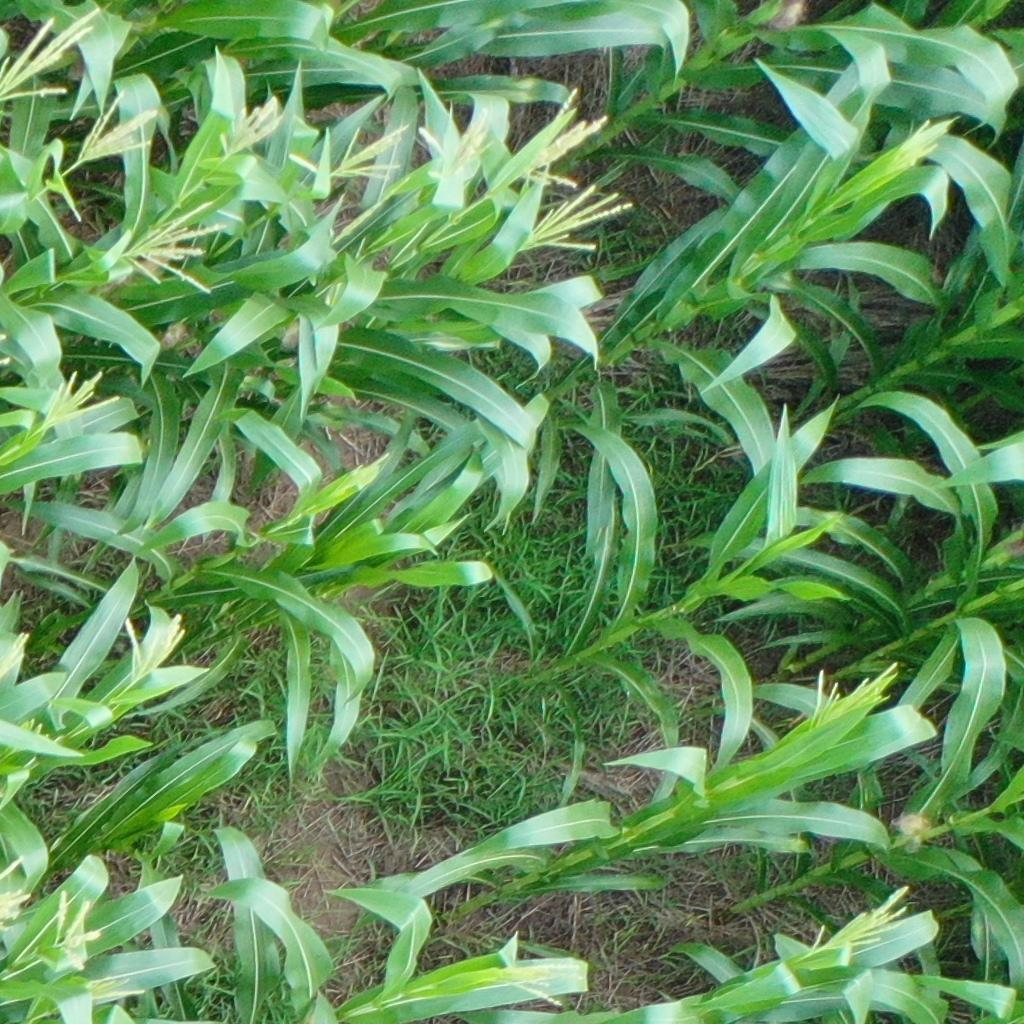Tassel: (118, 206, 230, 300), (1, 7, 103, 104), (523, 84, 605, 192), (523, 185, 632, 261), (805, 879, 910, 954), (809, 662, 900, 736), (75, 89, 159, 162), (323, 122, 411, 190), (31, 369, 122, 434), (420, 110, 498, 185), (121, 613, 192, 689), (492, 955, 585, 1010), (46, 889, 103, 974), (211, 97, 284, 159), (892, 113, 959, 171), (1, 857, 33, 931), (83, 972, 146, 1006), (345, 451, 392, 495), (1, 629, 31, 682)
